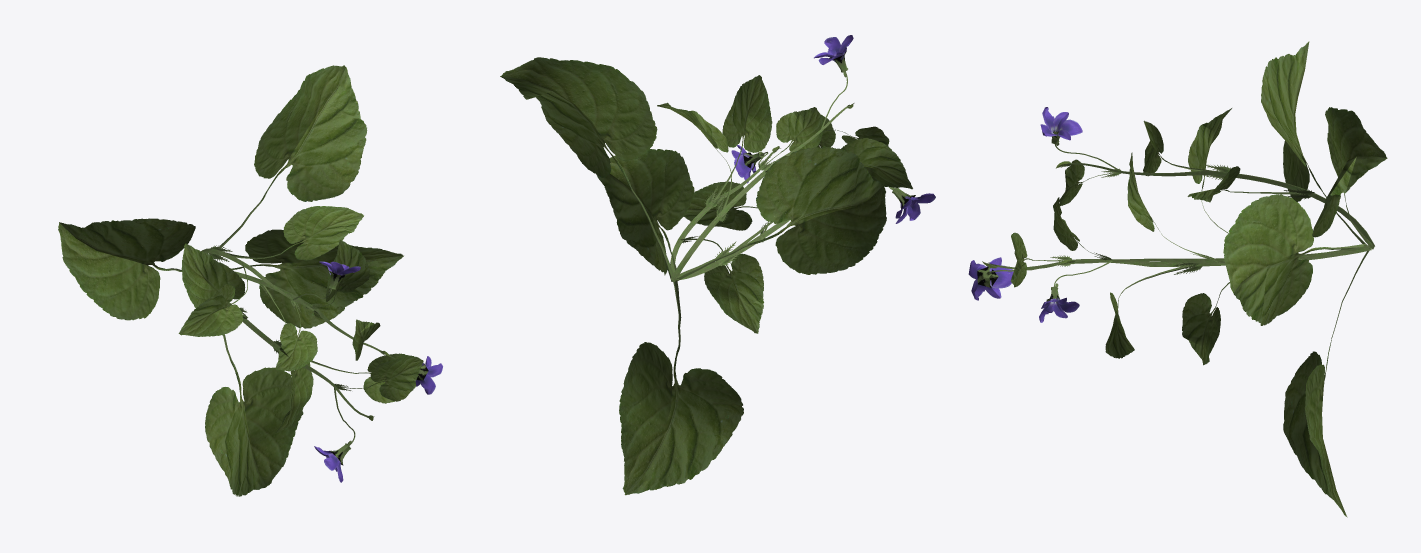
3 renders of one model, left to right at view 1: azimuth 30°, elevation 25°; view 2: azimuth 150°, elevation 25°; view 3: azimuth 270°, elevation 25°, orthographic. The views are drawn at different scales.
Parts seen in each view (by area): view 1: GC20_3; view 2: GC20_3; view 3: GC20_3.
Part boxes in pixels (<box>): GC20_3: <box>58,65,442,496</box>; GC20_3: <box>500,35,935,495</box>; GC20_3: <box>968,41,1387,517</box>.
Size of the model in its own units: 1.14 by 1.29 by 0.9978.
Materials: 5 (5 with a texture image).
